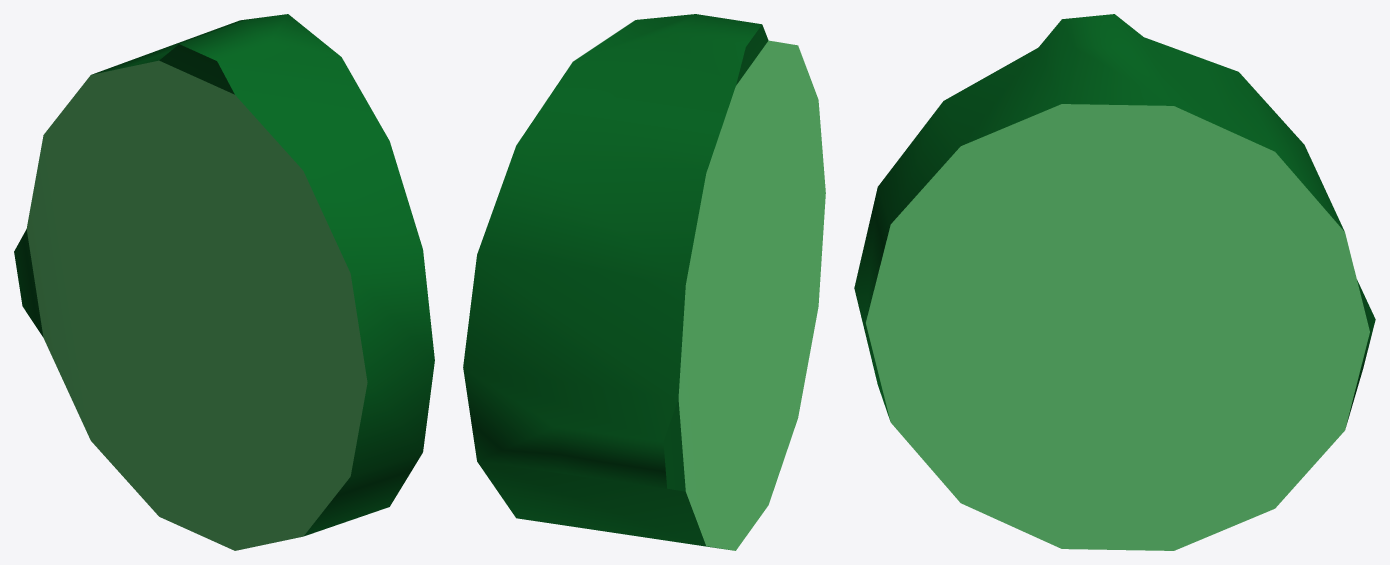
File: mesh_PickleSlice_Stage06.fbx
The picture shows the model from 3 angles, left to right: view 1: azimuth 30°, elevation 25°; view 2: azimuth 150°, elevation 25°; view 3: azimuth 270°, elevation 25°; orthographic projection. The views are drawn at different scales.
Parts seen in each view (by area): view 1: mesh_PickleSlice_Stage06; view 2: mesh_PickleSlice_Stage06; view 3: mesh_PickleSlice_Stage06.
Boxes of the visible parts, x1=… form: mesh_PickleSlice_Stage06: x1=14, y1=14, x2=434, y2=550; mesh_PickleSlice_Stage06: x1=463, y1=14, x2=825, y2=550; mesh_PickleSlice_Stage06: x1=854, y1=14, x2=1375, y2=550.
Bounding box in the file's own units: 0.0141 × 0.0343 × 0.0345.
